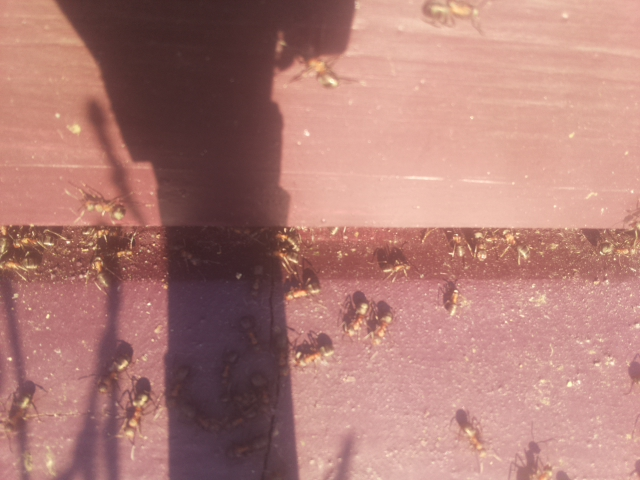ant: (57, 172, 127, 230), (112, 368, 160, 448), (448, 403, 492, 459), (288, 50, 344, 94), (316, 428, 363, 480), (412, 0, 486, 30), (93, 347, 136, 393), (340, 286, 374, 340), (513, 429, 546, 480), (3, 377, 40, 422), (372, 245, 415, 281), (367, 300, 396, 349), (247, 369, 277, 416), (215, 349, 240, 401), (439, 274, 465, 317), (236, 312, 262, 354), (244, 260, 270, 302), (83, 253, 108, 288), (282, 282, 325, 301), (444, 226, 467, 260), (622, 349, 638, 396)
